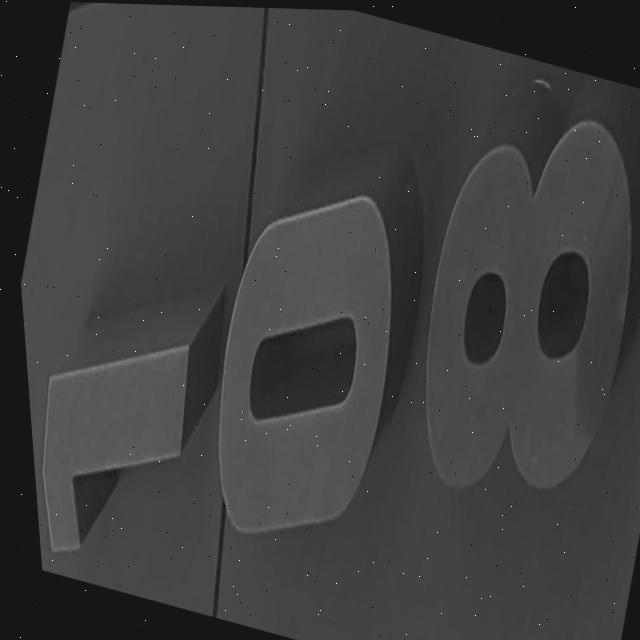character: (356, 51, 640, 569), (153, 128, 459, 588), (19, 260, 236, 603)
